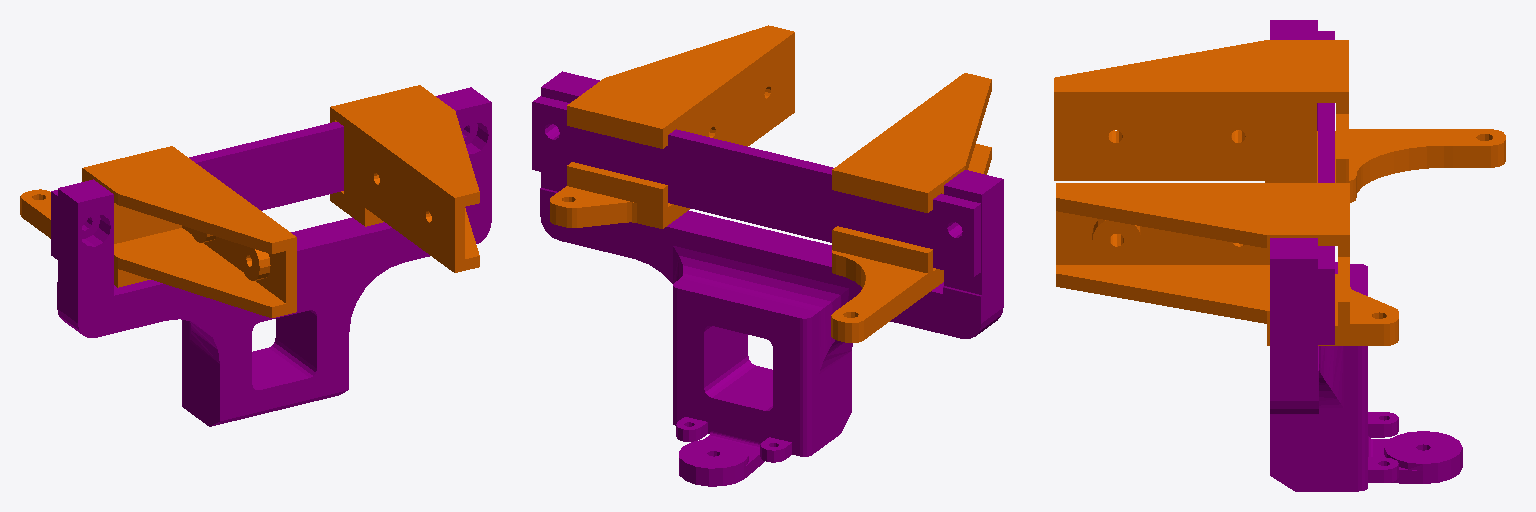
URDF robot description (linear_gripper):
<?xml version="1.0" encoding="utf-8"?>
<!-- This URDF was automatically created by SolidWorks to URDF Exporter! Originally created by [author] ([email redacted]) 
     Commit Version: 1.6.0-4-g7f85cfe  Build Version: 1.6.7995.38578
     For more information, please see http://wiki.ros.org/sw_urdf_exporter -->
<robot
  name="linear_gripper">

  <link name="world" />
  <joint name="world-base_link-fixed" type="fixed">
      <parent link="world" />
      <child link="base_garra" />
      <origin rpy="0.0 0.0 0.0" xyz="0.0 0.0 0.0" />
  </joint>

  <link
    name="base_garra">
    <inertial>
      <origin
        xyz="2.434E-05 -0.022273 -0.0046894"
        rpy="0 0 0" />
      <mass
        value="0.04363" />
      <inertia
        ixx="1.2763E-05"
        ixy="3.9172E-12"
        ixz="-3.6866E-11"
        iyy="4.6822E-05"
        iyz="2.0165E-06"
        izz="3.7148E-05" />
    </inertial>
    <visual>
      <origin
        xyz="0 0 0"
        rpy="0 0 0" />
      <geometry>
        <mesh
          filename="package://archie_description/meshes/gripper/base_garra.STL" />
      </geometry>
      <material
        name="">
        <color rgba="0.6274509803921569 0.01568627450980392 0.596078431372549 1.0" />      
      </material>
    </visual>
    <collision>
      <origin
        xyz="0 0 0"
        rpy="0 0 0" />
      <geometry>
        <mesh
          filename="package://archie_description/meshes/gripper/base_garra.STL" />
      </geometry>
    </collision>
  </link>
  <link
    name="garra1_link">
    <inertial>
      <origin
        xyz="-0.00071849 0.018325 -0.00038068"
        rpy="0 0 0" />
      <mass
        value="0.012915" />
      <inertia
        ixx="4.5614E-06"
        ixy="-7.5789E-07"
        ixz="-1.3068E-07"
        iyy="1.565E-06"
        iyz="-4.7014E-07"
        izz="4.3774E-06" />
    </inertial>
    <visual>
      <origin
        xyz="0 0 0"
        rpy="0 0 0" />
      <geometry>
        <mesh
          filename="package://archie_description/meshes/gripper/garra1_link.STL" />
      </geometry>
      <material
        name="">
        <color
          rgba="0.9098 0.44314 0.031373 1" />
      </material>
    </visual>
    <collision>
      <origin
        xyz="0 0 0"
        rpy="0 0 0" />
      <geometry>
        <mesh
          filename="package://archie_description/meshes/gripper/garra1_link.STL" />
      </geometry>
    </collision>
  </link>
  <joint
    name="garra1_joint"
    type="prismatic">
    <origin
      xyz="0.043 -0.009 0.008"
      rpy="0 0 0" />
    <parent
      link="base_garra" />
    <child
      link="garra1_link" />
    <axis
      xyz="-1 0 0" />
    <limit
      lower="0"
      upper="0.02"
      effort="100"
      velocity="0" />
  </joint>
  <link
    name="garra2_link">
    <inertial>
      <origin
        xyz="0 0 0"
        rpy="0 0 0" />
      <mass
        value="0" />
      <inertia
        ixx="0"
        ixy="0"
        ixz="0"
        iyy="0"
        iyz="0"
        izz="0" />
    </inertial>
    <visual>
      <origin
        xyz="0 0 0"
        rpy="0 0 0" />
      <geometry>
        <mesh
          filename="package://archie_description/meshes/gripper/garra2_link.STL" />
      </geometry>
      <material
        name="">
        <color
          rgba="0.9098 0.44314 0.031373 1" />
      </material>
    </visual>
    <collision>
      <origin
        xyz="0 0 0"
        rpy="0 0 0" />
      <geometry>
        <mesh
          filename="package://archie_description/meshes/gripper/garra2_link.STL" />
      </geometry>
    </collision>
  </link>
  <joint
    name="garra2_joint"
    type="prismatic">
    <origin
      xyz="-0.043 0.0125 0.008"
      rpy="0 0 0" />
    <parent
      link="base_garra" />
    <child
      link="garra2_link" />
    <axis
      xyz="-1 0 0" />
    <limit
      lower="-0.02"
      upper="0"
      effort="100"
      velocity="0" />
    <mimic joint="garra1_joint" multiplier="-1" offset="0" />

  </joint>
</robot>

--- Render facts (derived) ---
Views: 3 orthographic renders of the robot side by side, from view 1: azimuth 30°, elevation 25°; view 2: azimuth 150°, elevation 25°; view 3: azimuth 270°, elevation 25°.
Model linear_gripper with 4 links and 3 joints (2 prismatic, 1 fixed), rooted at world, posed every joint at zero.
Visible links, largest first — view 1: base_garra, garra2_link, garra1_link; view 2: base_garra, garra1_link, garra2_link; view 3: garra2_link, garra1_link, base_garra.
Boxes of the visible links, x1,y1,x2,y2 form: base_garra: (51,87,491,426); garra2_link: (20,146,296,317); garra1_link: (330,85,479,272); base_garra: (532,71,1003,486); garra1_link: (550,25,794,228); garra2_link: (831,73,991,342); garra2_link: (1054,40,1505,202); garra1_link: (1056,183,1398,345); base_garra: (1270,20,1462,491).
Size in the robot's own frame: 0.1151 by 0.092 by 0.0742 metres.
Meshes: 3 distinct files referenced, 3 mesh visuals loaded (3 binary STL).
